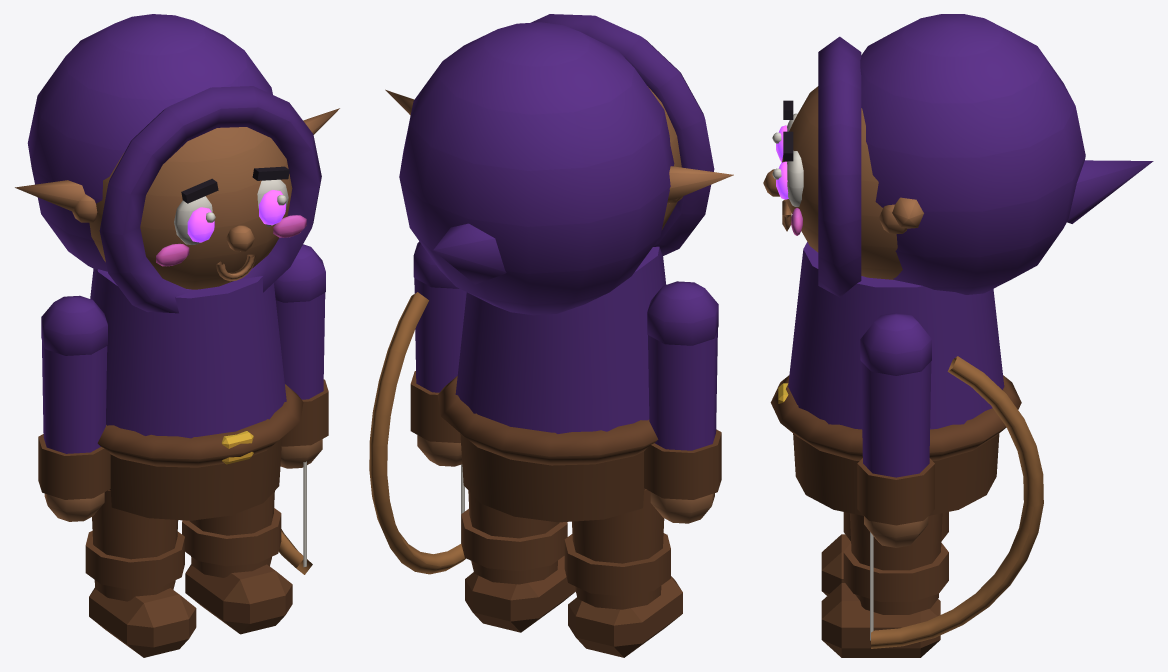
The model's file is hero_dusk.glb.
The picture shows the model from 3 angles, left to right: view 1: azimuth 30°, elevation 25°; view 2: azimuth 150°, elevation 25°; view 3: azimuth 270°, elevation 25°; orthographic projection. The views are drawn at different scales.
Parts seen in each view (by area): view 1: body_t0_palette, arml_t0_palette, legl_t0_palette, legr_t0_palette, armr_t0_palette, body_t0_shadow_glow; view 2: body_t0_palette, arml_t0_palette, armr_t0_palette, legl_t0_palette, legr_t0_palette; view 3: body_t0_palette, armr_t0_palette, legr_t0_palette, legl_t0_palette.
Part boxes in pixels (box(x1,y1,x2,y2)): body_t0_palette: box(15, 14, 339, 520); arml_t0_palette: box(38, 295, 110, 521); legl_t0_palette: box(85, 490, 196, 657); legr_t0_palette: box(182, 491, 292, 634); armr_t0_palette: box(274, 244, 328, 574); body_t0_shadow_glow: box(187, 190, 285, 242); body_t0_palette: box(385, 14, 733, 522); arml_t0_palette: box(644, 281, 721, 523); armr_t0_palette: box(369, 241, 466, 574); legl_t0_palette: box(564, 489, 682, 657); legr_t0_palette: box(461, 491, 575, 632); body_t0_palette: box(763, 14, 1153, 515); armr_t0_palette: box(857, 313, 1043, 648); legr_t0_palette: box(821, 513, 948, 657); legl_t0_palette: box(821, 512, 948, 595).
Bounding box in the file's own units: 0.3116 × 0.5265 × 0.3112.
